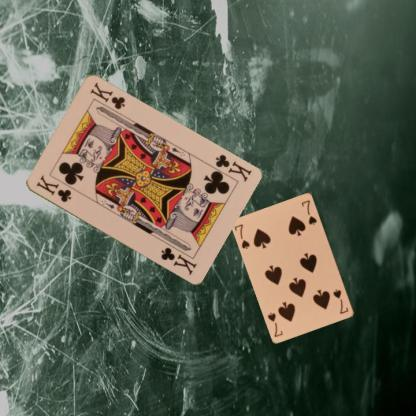7s: (330, 286, 350, 316), (232, 221, 251, 251)
Kc: (212, 151, 252, 184), (33, 172, 73, 204)
